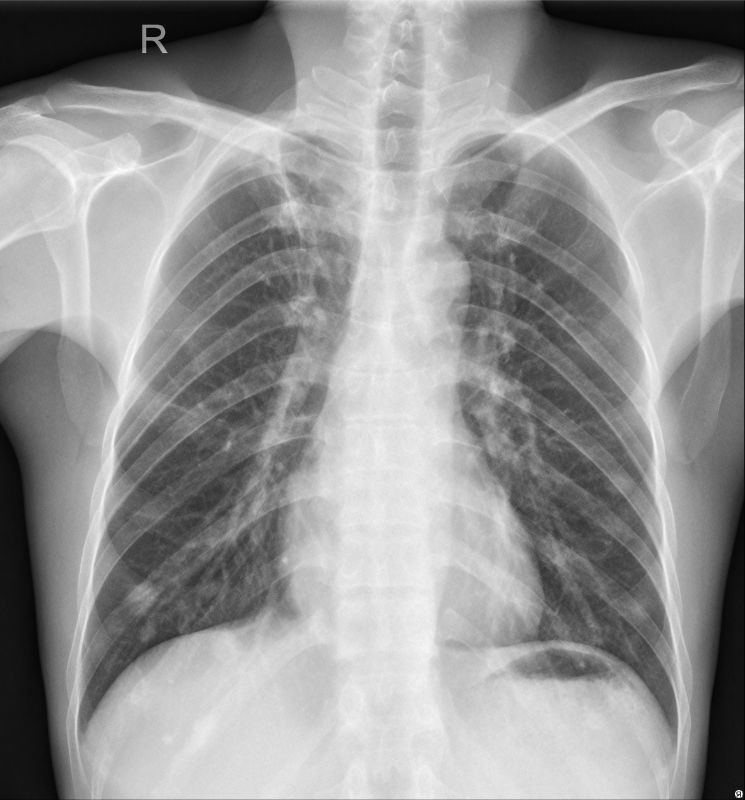Tuberculosis: (256, 155, 318, 262)
